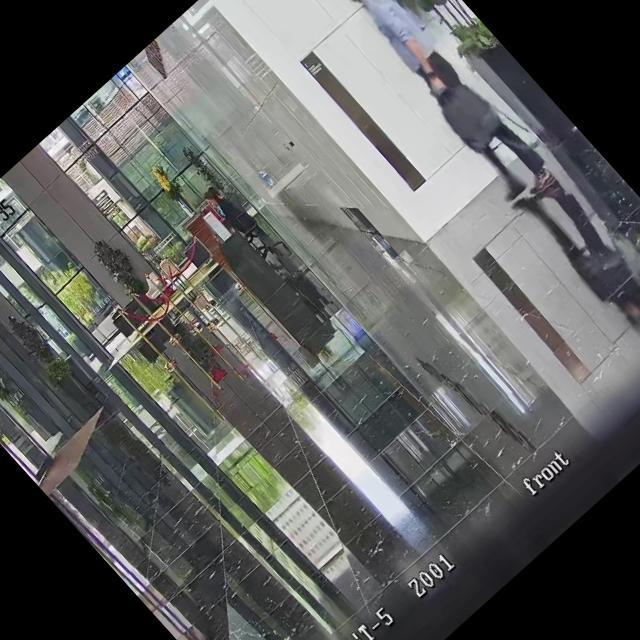person: (309, 0, 563, 212), (200, 179, 258, 240)
